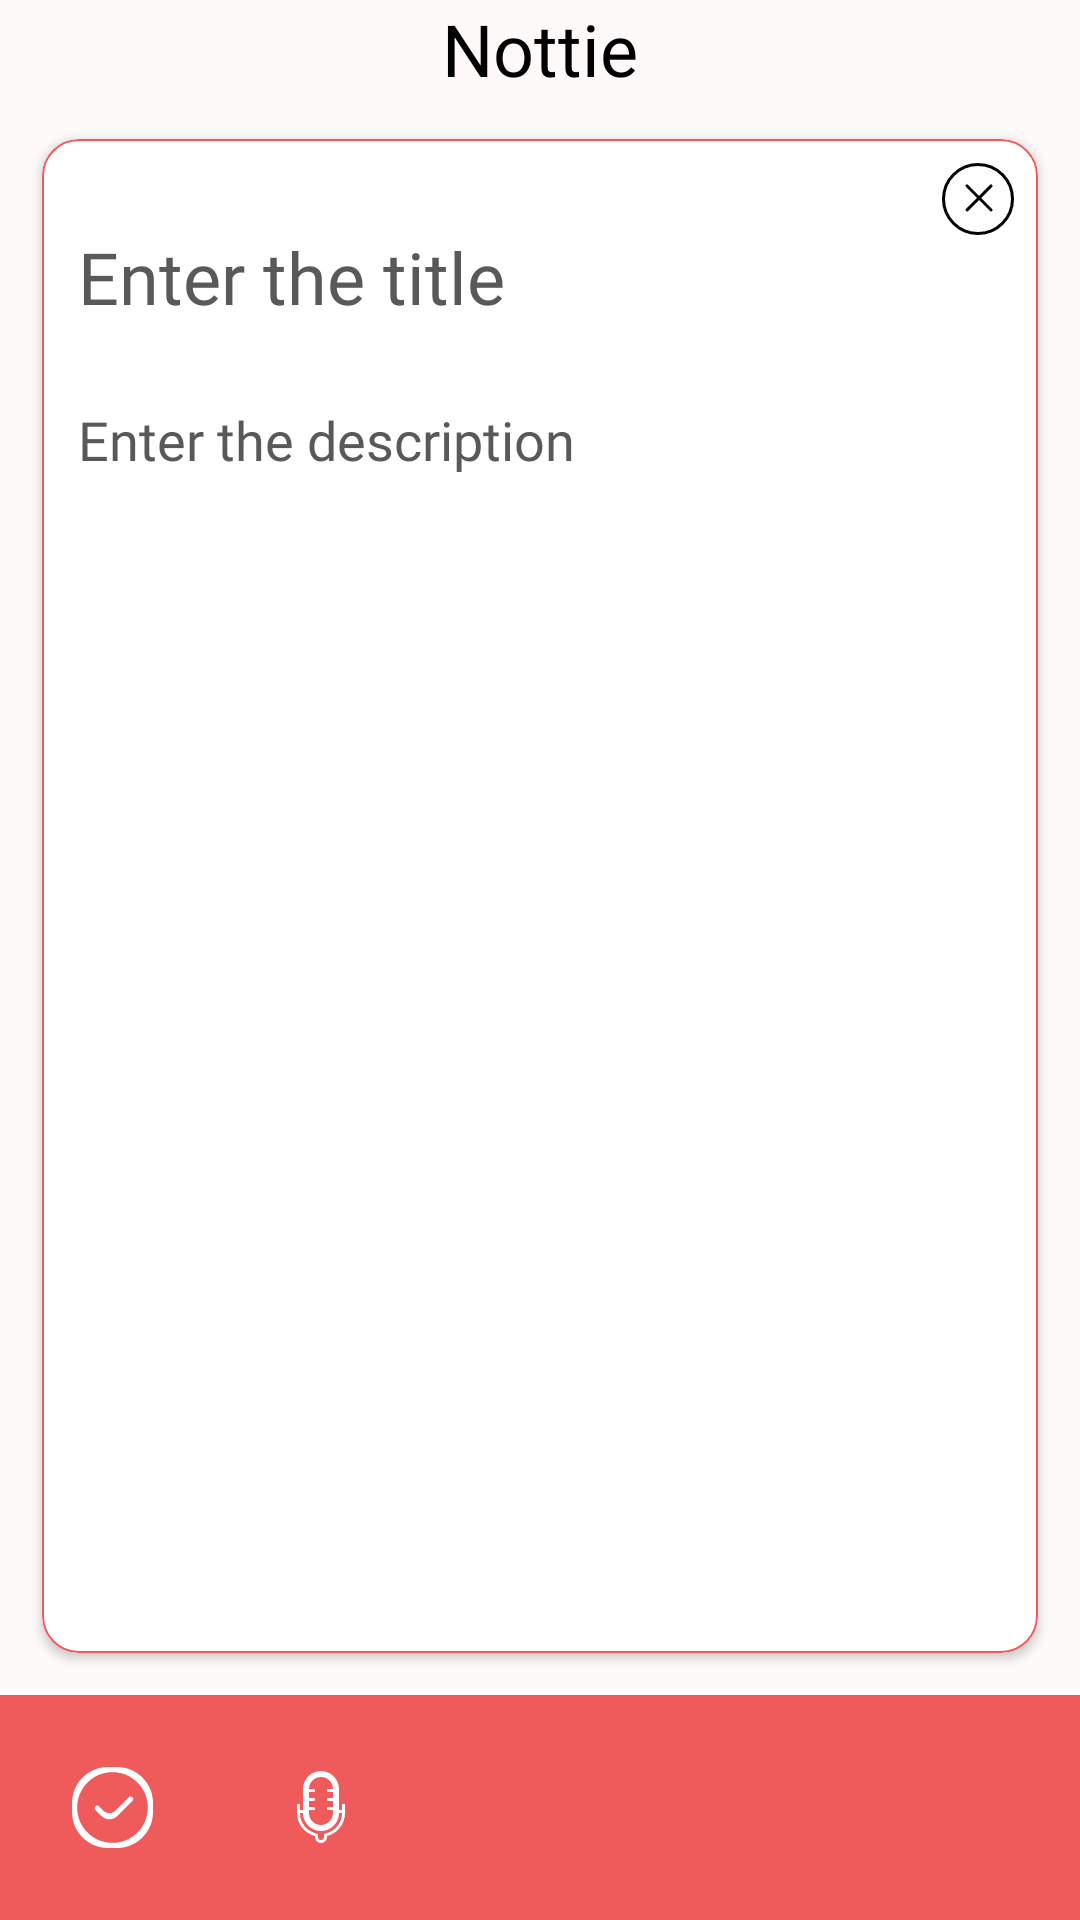

Screen size 1080w x 1920h. Icon name, then its center in pixels as (x=x, y=y):
delete: (x=978, y=199)
save: (x=112, y=1807)
speech: (x=321, y=1807)
